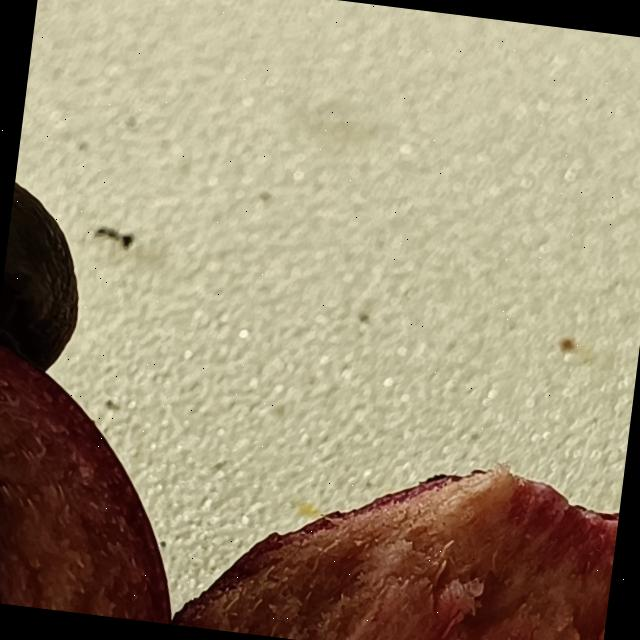mangosteen: (8, 237, 640, 640)
